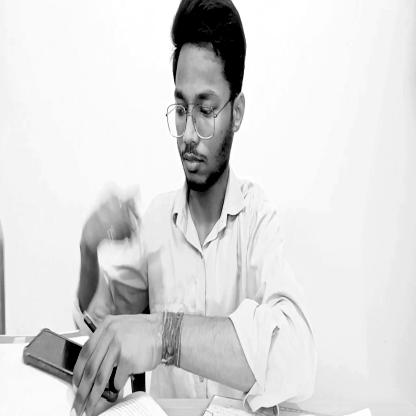Distracted: (167, 2, 249, 193)
